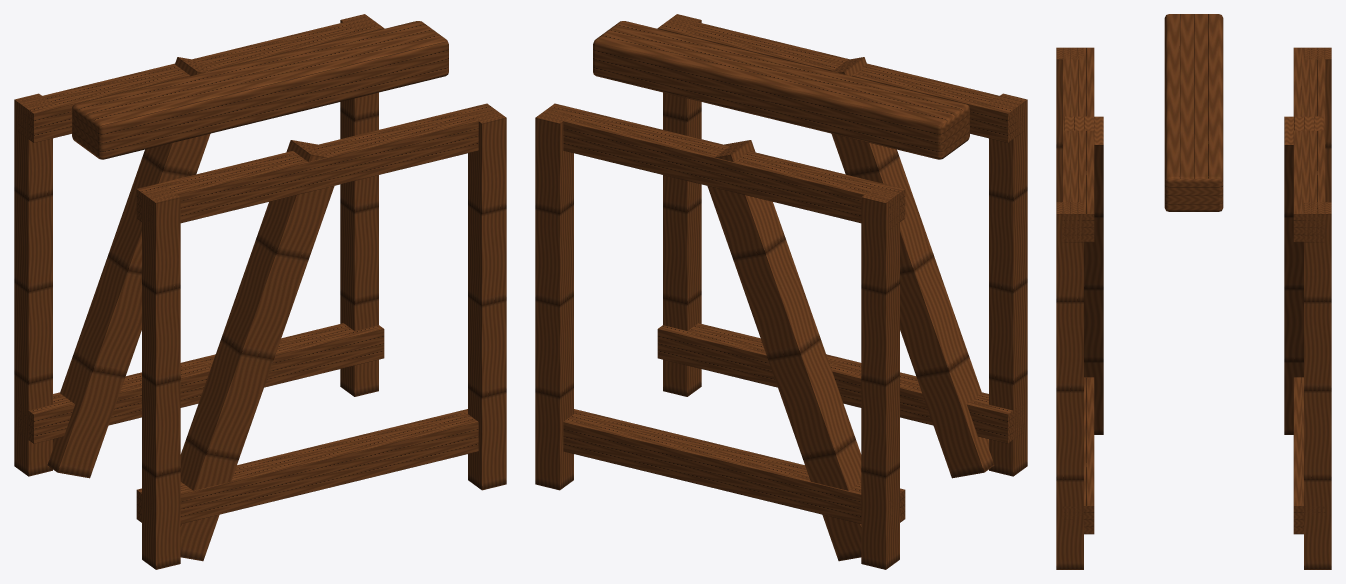
File: roadside-survival-stops-vehicle-service-stand-71f071a4__23565.glb
3 renders of one model, left to right at view 1: azimuth 30°, elevation 25°; view 2: azimuth 150°, elevation 25°; view 3: azimuth 270°, elevation 25°, orthographic. The views are drawn at different scales.
Parts seen in each view (by area): view 1: vehicle-service-stand; view 2: vehicle-service-stand; view 3: vehicle-service-stand.
Boxes of the visible parts, <box> form: vehicle-service-stand: <box>14,14,506,569</box>; vehicle-service-stand: <box>535,14,1027,569</box>; vehicle-service-stand: <box>1056,14,1331,569</box>.
Bounding box in the file's own units: 1 × 1.12 × 0.7.
Materials: 1 (1 with a texture image).
